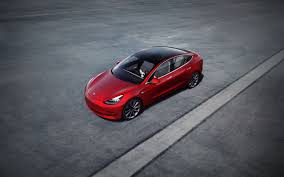car: (74, 41, 217, 127)
